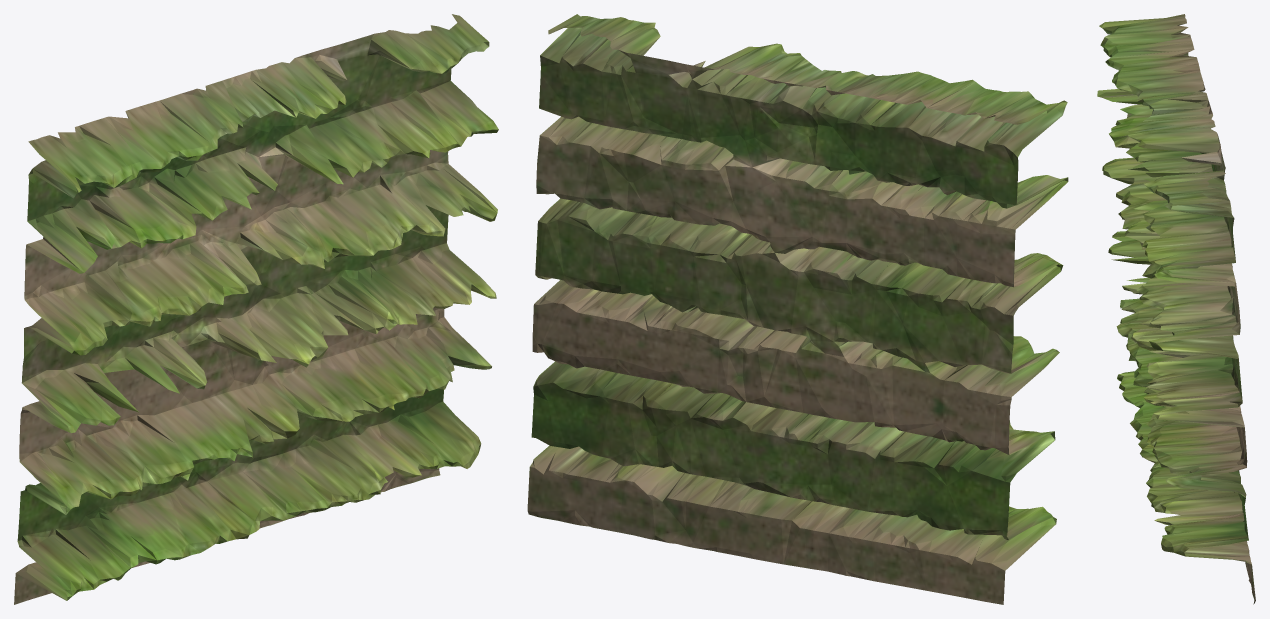
Rendered from map_70_60.obj.
The picture shows the model from 3 angles, left to right: view 1: azimuth 30°, elevation 25°; view 2: azimuth 150°, elevation 25°; view 3: azimuth 270°, elevation 25°; orthographic projection. The views are drawn at different scales.
Visible parts, largest first — view 1: grp1; view 2: grp1; view 3: grp1.
Part boxes in pixels (x1=…): grp1: x1=14, y1=14, x2=498, y2=604; grp1: x1=527, y1=14, x2=1068, y2=604; grp1: x1=1097, y1=14, x2=1255, y2=604.
Bounding box in the file's own units: 10 × 10 × 3.57.
1 material, 1 textured.
